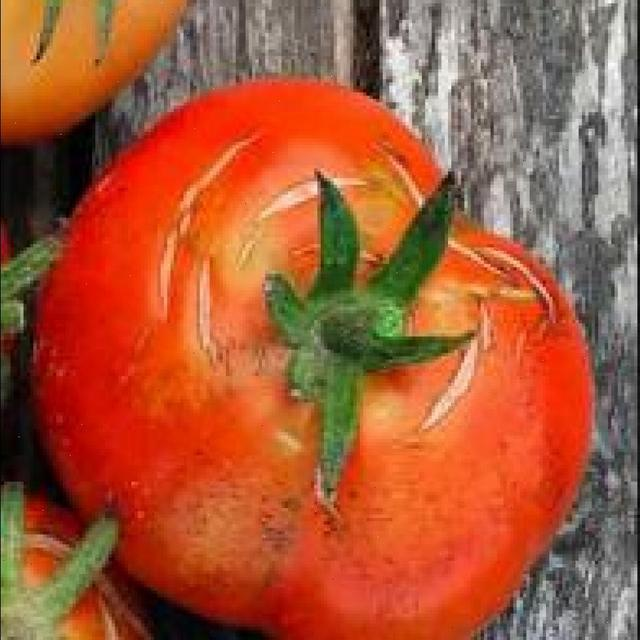Cracking Fruit: (102, 116, 321, 256)
